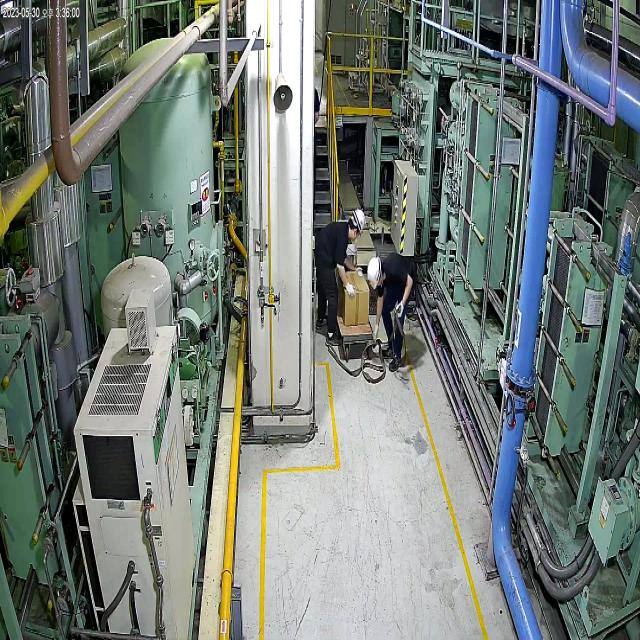worker: (312, 195, 368, 352), (365, 245, 420, 381)
